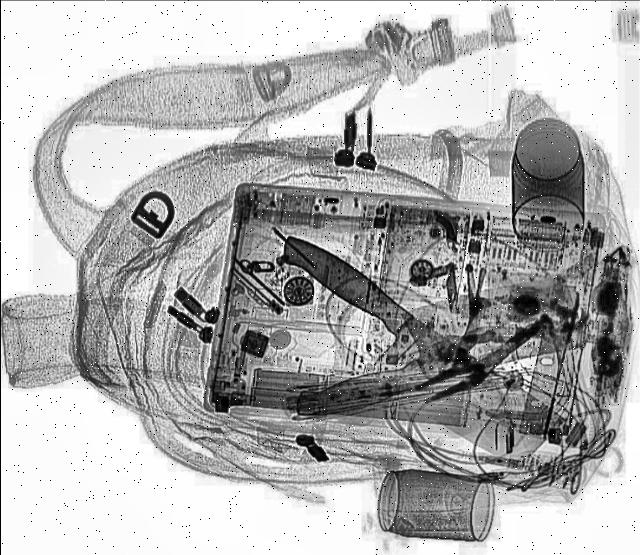Knife: (239, 224, 571, 476), (269, 271, 593, 423)
